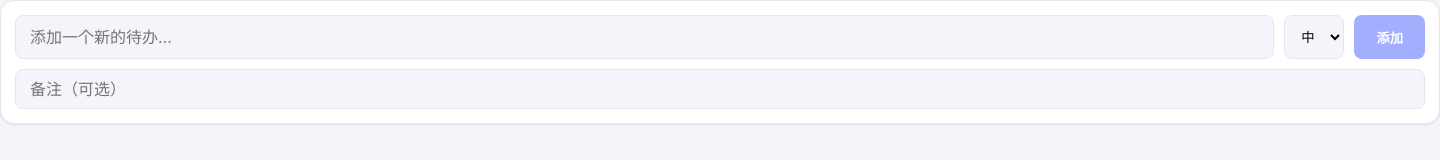
it: TodoInput.vue › disables the submit button until a non-empty title is entered
Expected: the submit button is disabled, [1354,15,1425,59]
Type "买菜" into the field with placeholder "添加一个新的待办…" at x=645, y=37, box [15,15,1274,59]
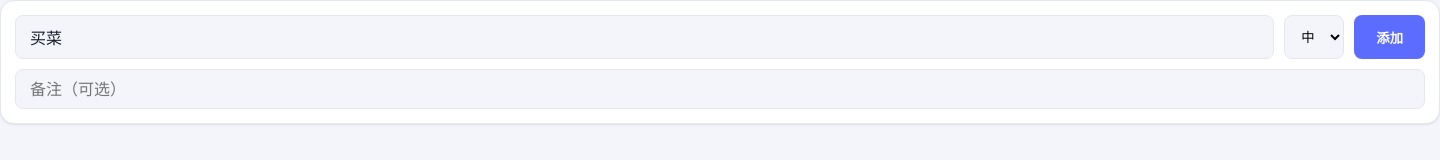
Result: the submit button is enabled at [1354,15,1425,59]
